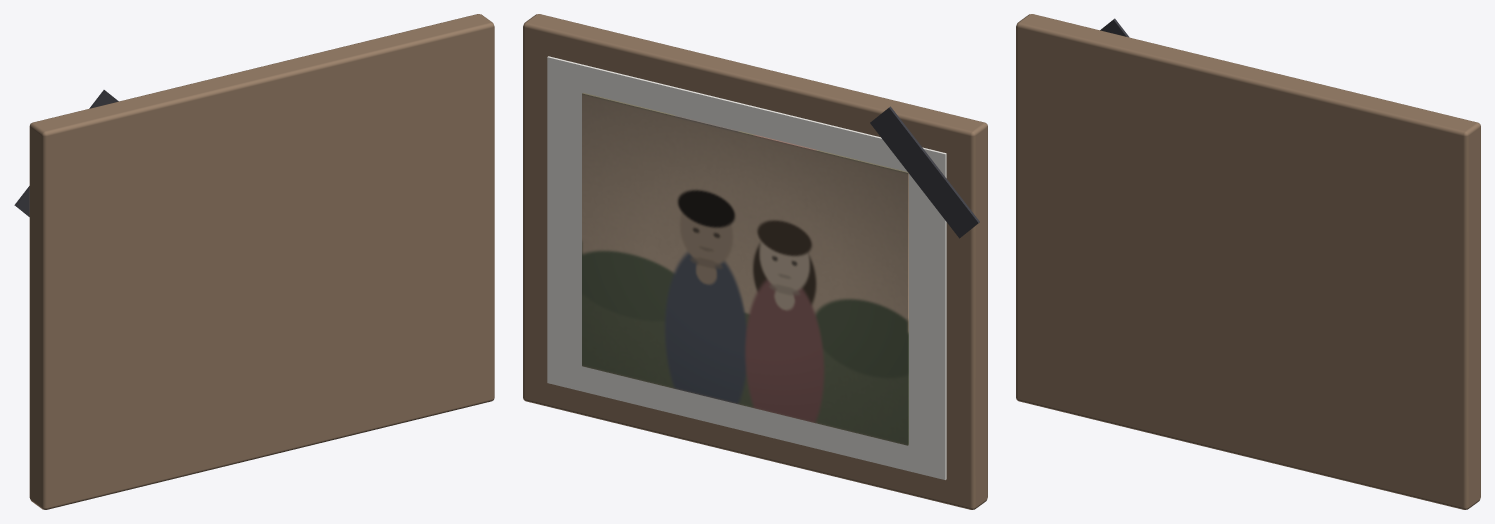
File: escena.casa.foto_pareja_luto.fbx
3 views of the same model, side by side, from view 1: azimuth 30°, elevation 25°; view 2: azimuth 150°, elevation 25°; view 3: azimuth 330°, elevation 25° (orthographic).
Visible parts, largest first — view 1: Marco; view 2: Foto, Marco, Paspartu, Cinta negra; view 3: Marco.
Boxes of the visible parts, left/top/right/bottom form: Marco: left=29, top=14, right=494, bottom=509; Foto: left=582, top=92, right=908, bottom=445; Marco: left=523, top=14, right=987, bottom=509; Paspartu: left=547, top=56, right=946, bottom=479; Cinta negra: left=870, top=106, right=979, bottom=238; Marco: left=1016, top=14, right=1480, bottom=509.
Size of the model in its own units: 0.5101 by 0.4101 by 0.0385.
Materials: 4 (1 with a texture image).
